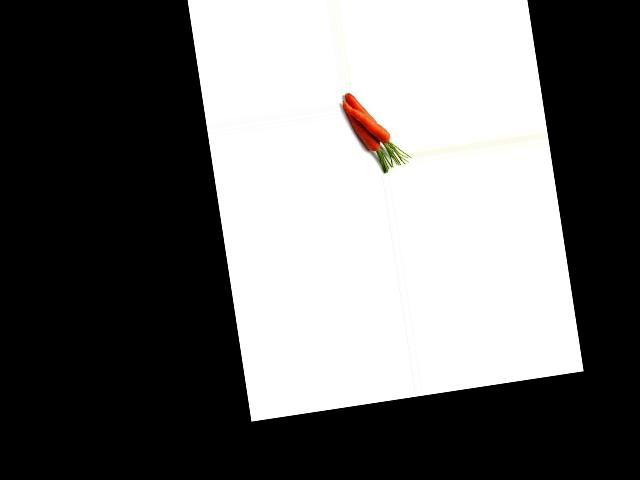carrot: (344, 89, 377, 128)
